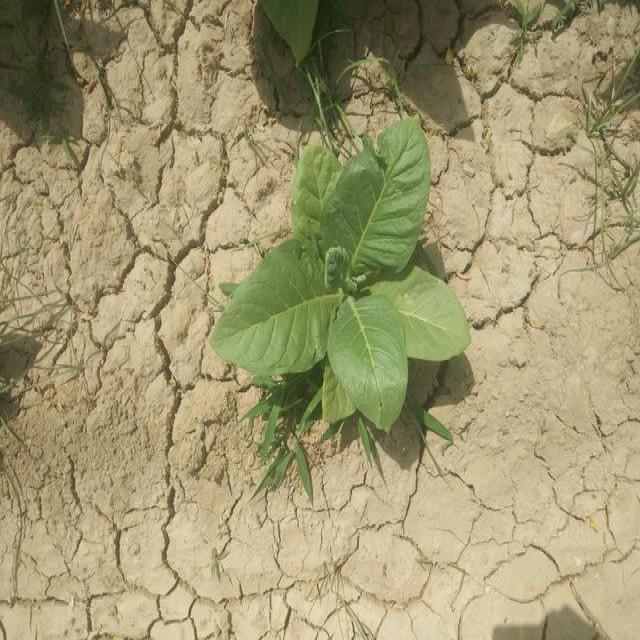crop: (210, 114, 477, 418)
